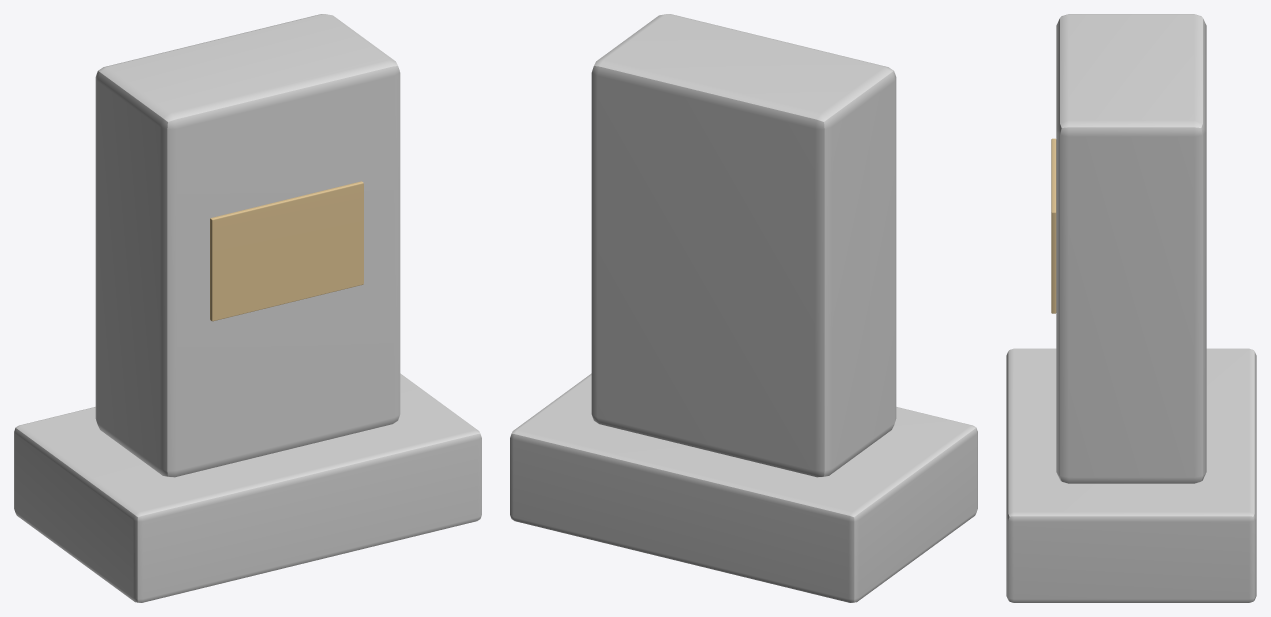
The model's file is SM_Town_Memorial.fbx.
3 views of the same model, side by side, from view 1: azimuth 30°, elevation 25°; view 2: azimuth 150°, elevation 25°; view 3: azimuth 270°, elevation 25° (orthographic).
Parts seen in each view (by area): view 1: SM_Town_Memorial_1; view 2: SM_Town_Memorial_1; view 3: SM_Town_Memorial_1.
Boxes of the visible parts, x1,y1,x2,y2 form: SM_Town_Memorial_1: (14,14,481,602); SM_Town_Memorial_1: (510,14,977,602); SM_Town_Memorial_1: (1006,14,1256,602).
Size of the model in its own units: 160 by 200 by 100.
